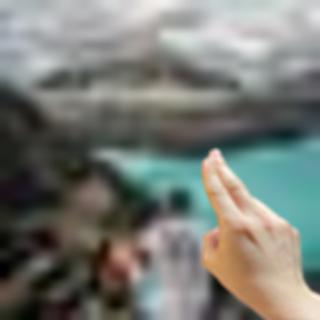DHAVE: (193, 141, 308, 302)
